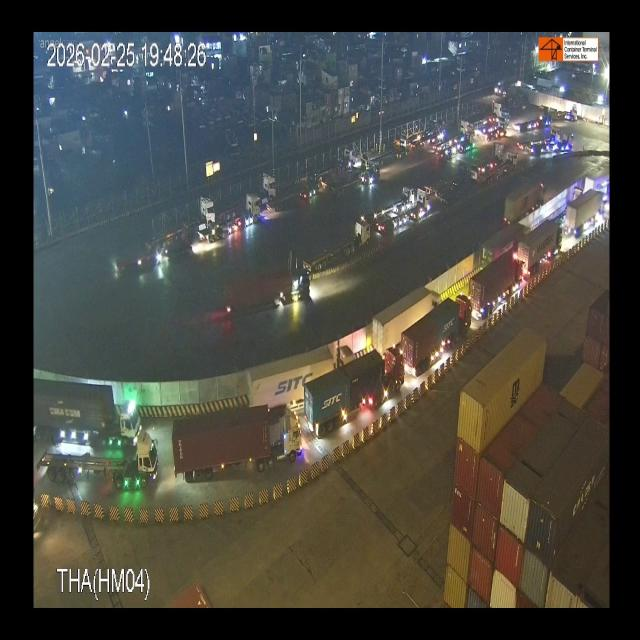truck: (37, 438, 165, 502), (240, 343, 352, 414), (398, 288, 476, 389), (167, 418, 301, 474), (308, 357, 406, 433), (34, 376, 144, 442), (366, 279, 448, 355), (462, 252, 524, 323), (515, 208, 566, 277), (219, 269, 315, 305), (560, 180, 608, 243), (310, 217, 372, 263), (217, 194, 261, 240), (163, 203, 216, 240), (398, 188, 432, 228), (373, 186, 413, 217), (253, 170, 279, 203)
